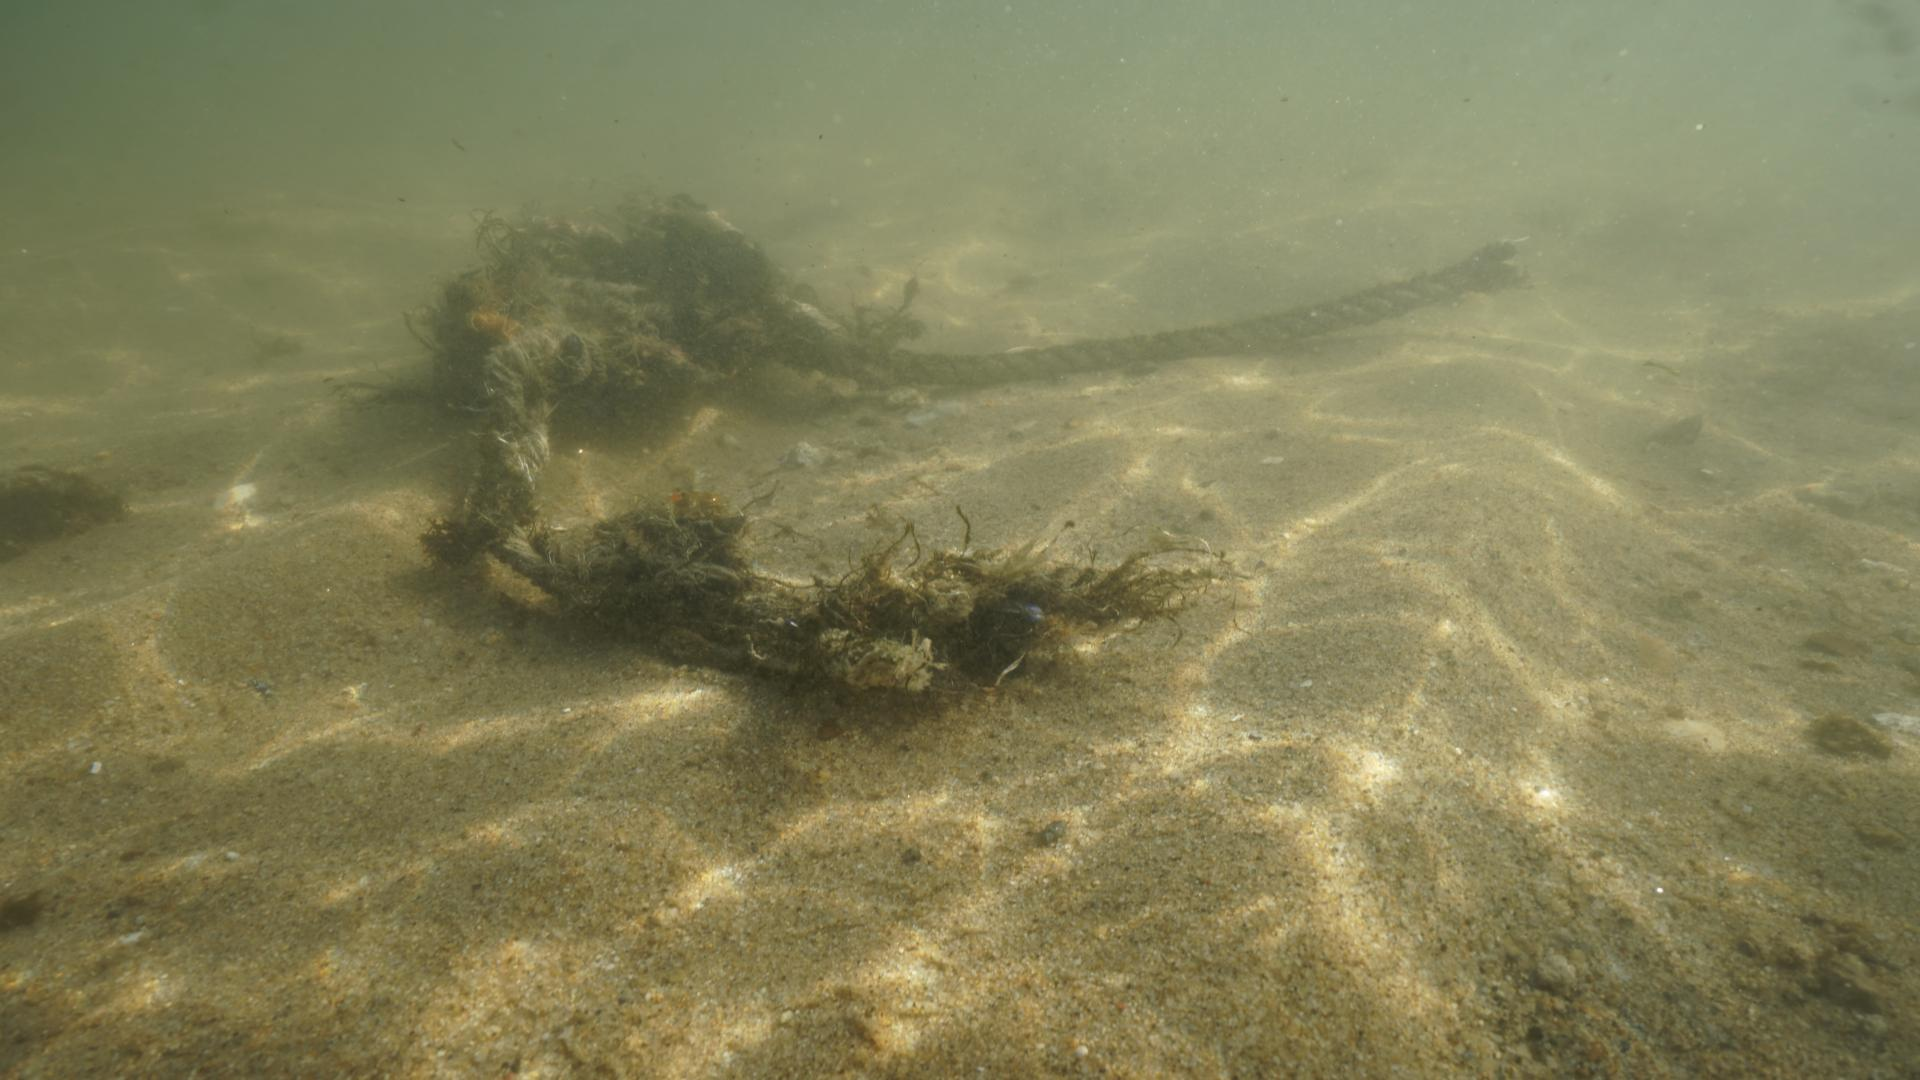rope: (887, 255, 1482, 388)
